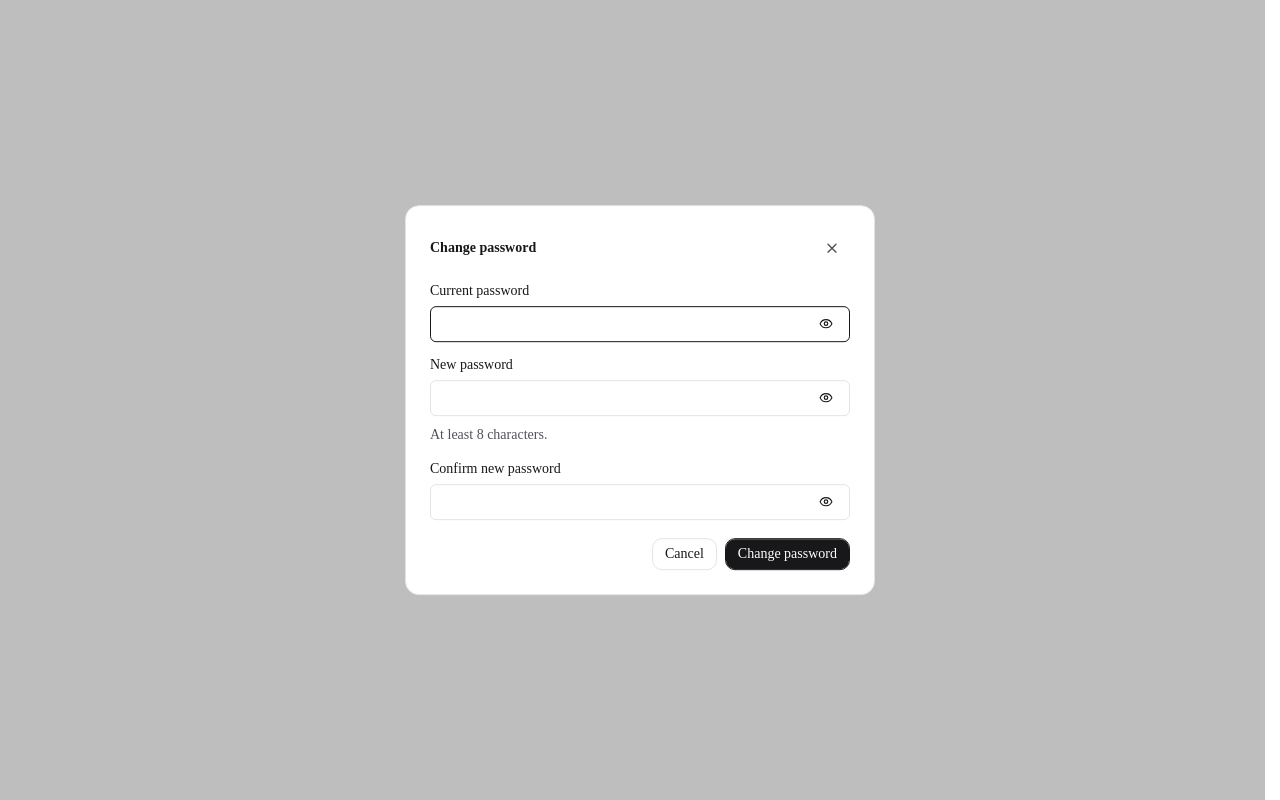
Scenario: ChangePasswordDialog › validates all three fields before sending credentials
Click the button "Change password" at (787, 554), box [725,538,850,570]
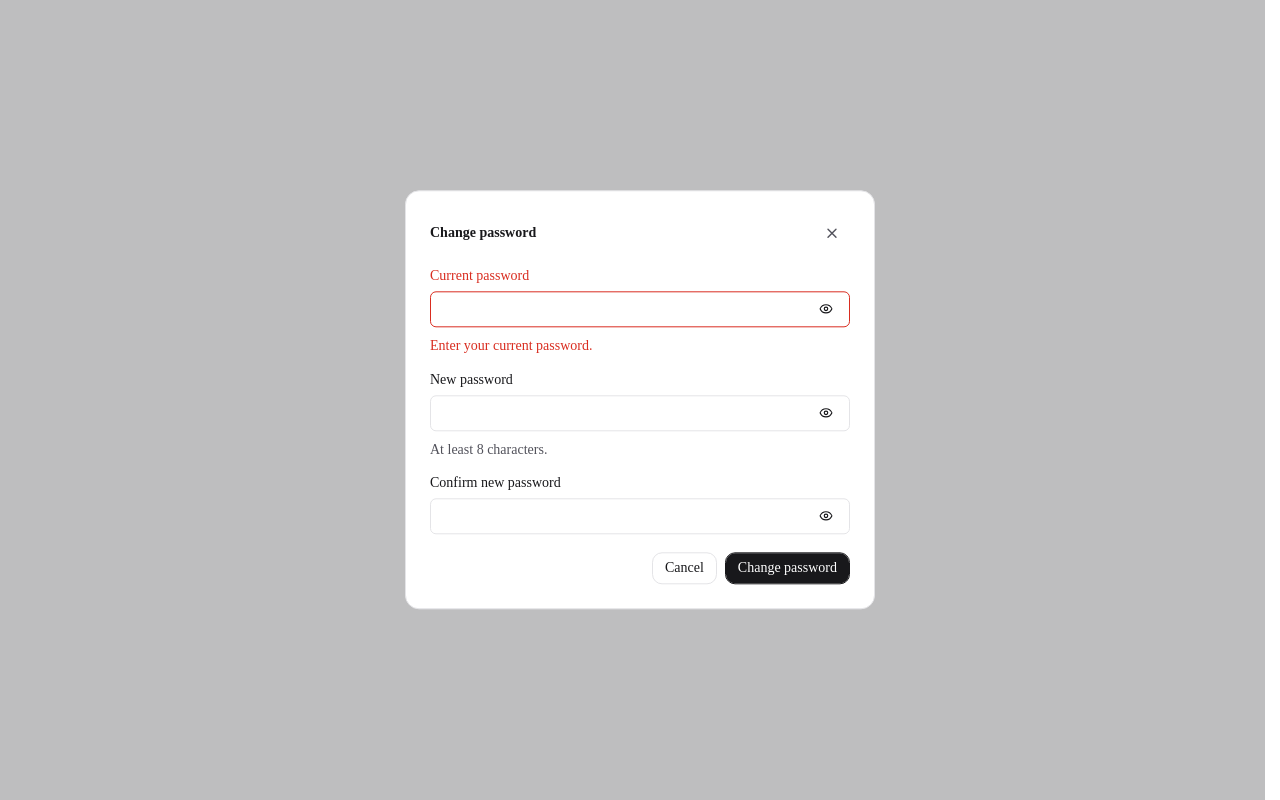
Expected: the message reads "Enter your current password.", [430,338,592,353]
Type "current-password-1234" into the password field labelled "Current password" at (640, 309), box [430,291,850,327]
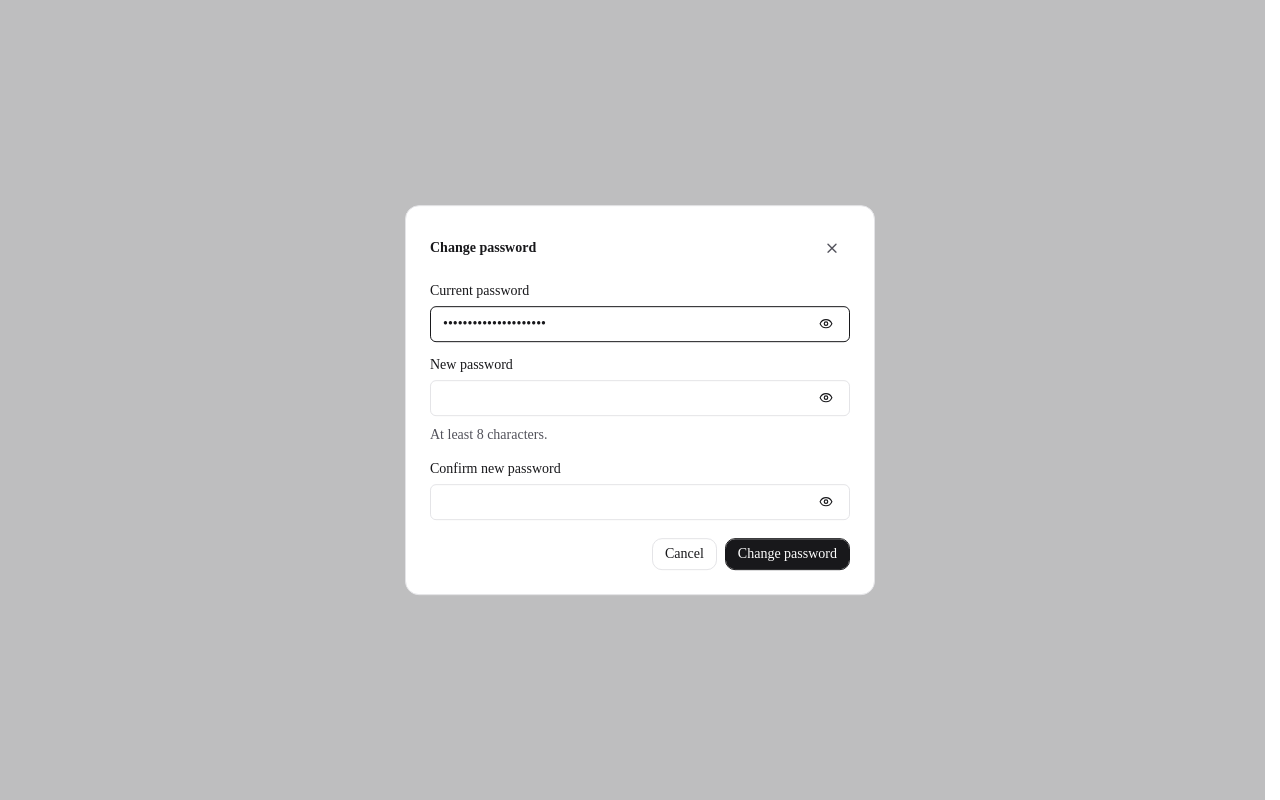
Type "new-password-5678" into the password field labelled "New password" at (640, 398), box [430,380,850,416]
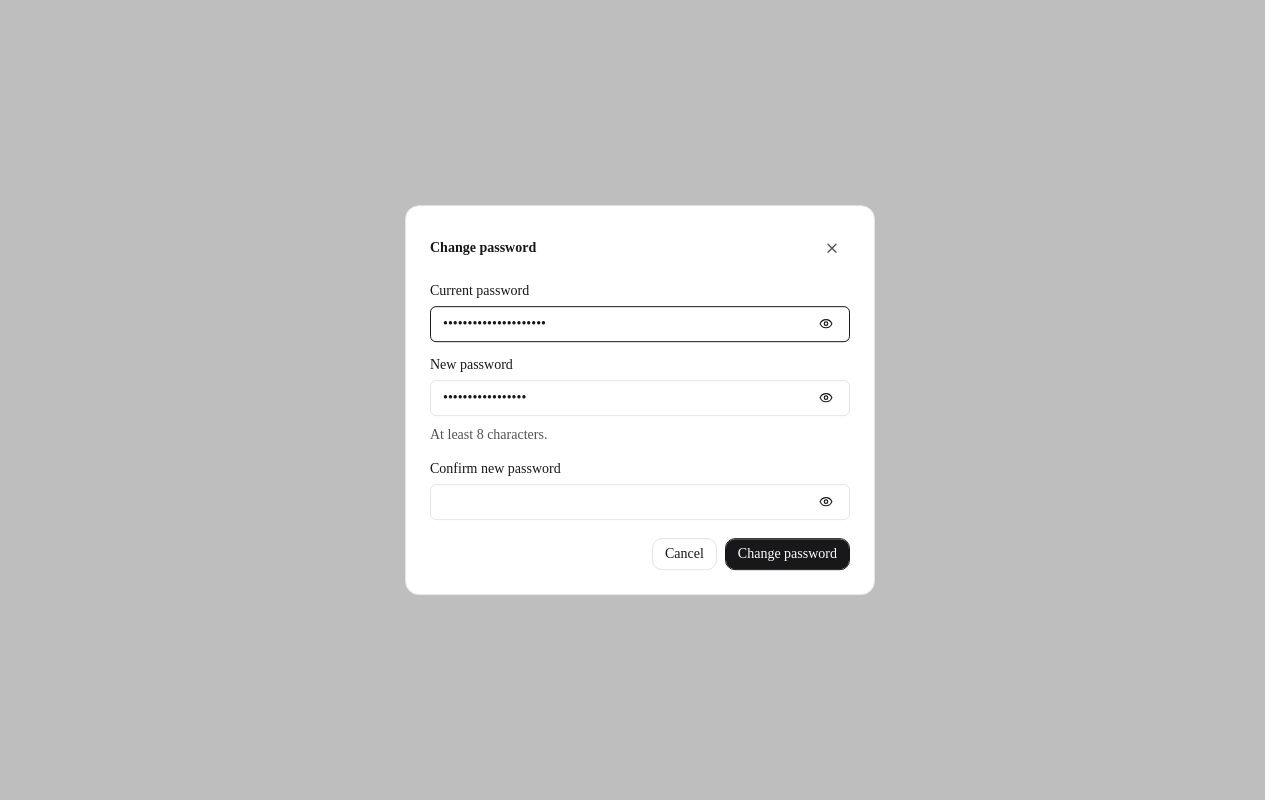
Type "different-password" into the password field labelled "Confirm new password" at (640, 502), box [430,484,850,520]
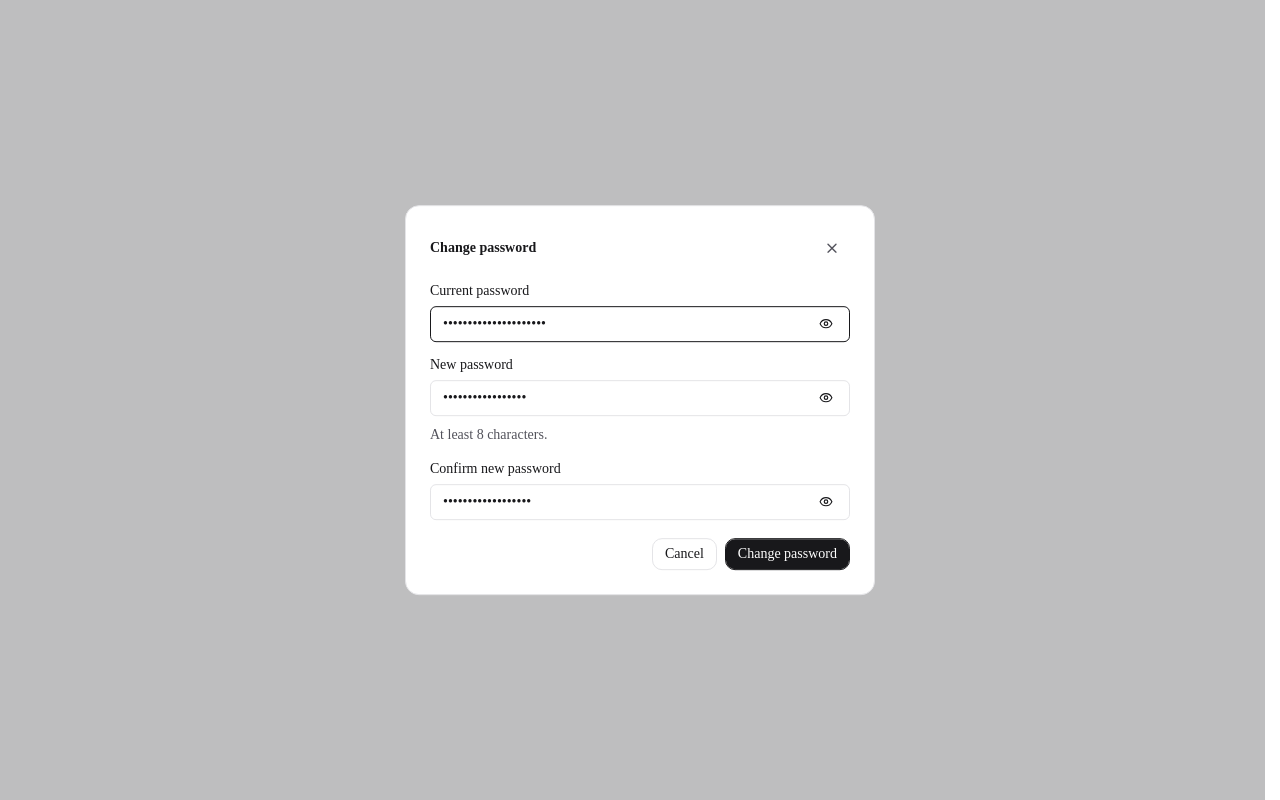
Click the button "Change password" at (787, 554), box [725,538,850,570]
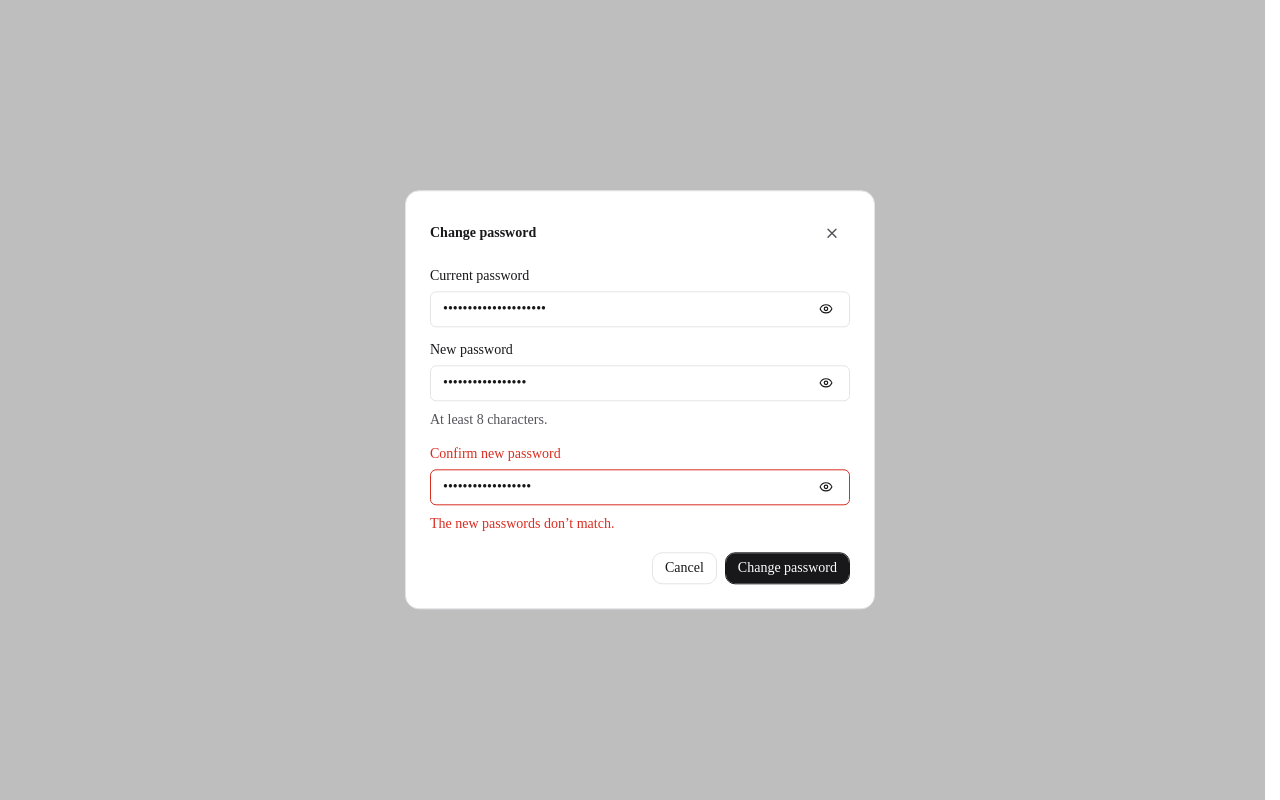
Expected: the message reads "The new passwords don’t match.", [430,516,614,531]
